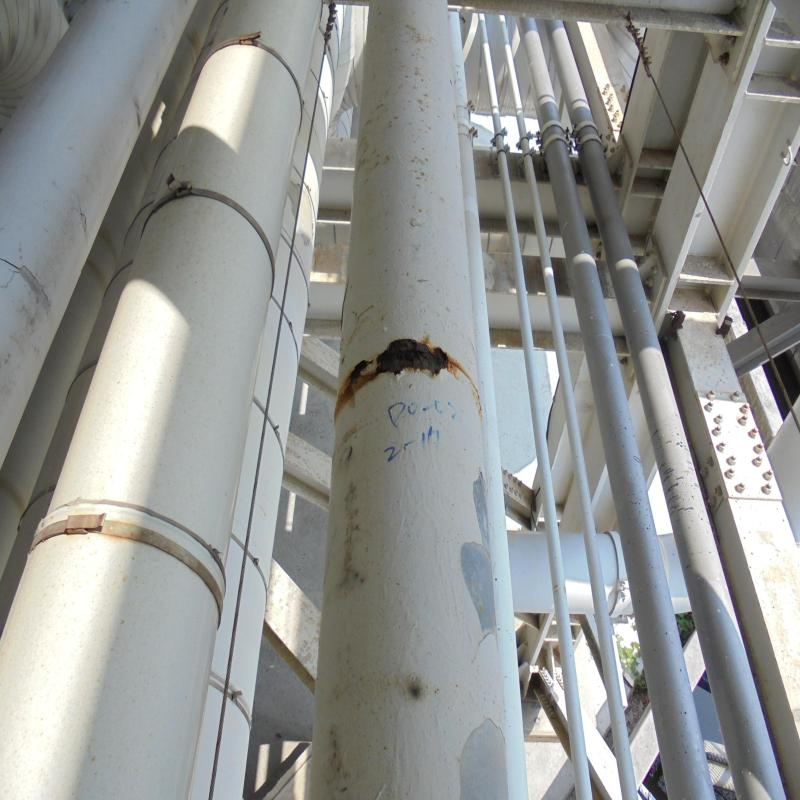Healthy: (139, 218, 230, 479), (41, 546, 150, 746)
